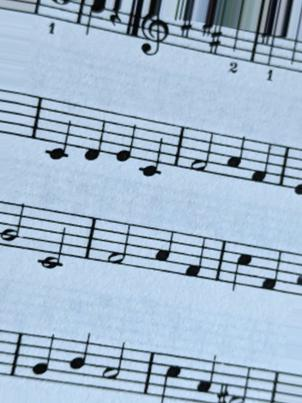A: (151, 222, 176, 282), (224, 131, 248, 188), (196, 352, 215, 402)
B: (67, 331, 93, 392)
D: (83, 103, 107, 164)
E: (114, 107, 138, 166)
F: (182, 229, 208, 285), (248, 134, 273, 188), (259, 242, 283, 296)
G: (30, 327, 56, 386)
HC: (158, 347, 185, 402), (229, 236, 254, 293)
LC: (136, 112, 167, 184), (44, 94, 75, 165)
